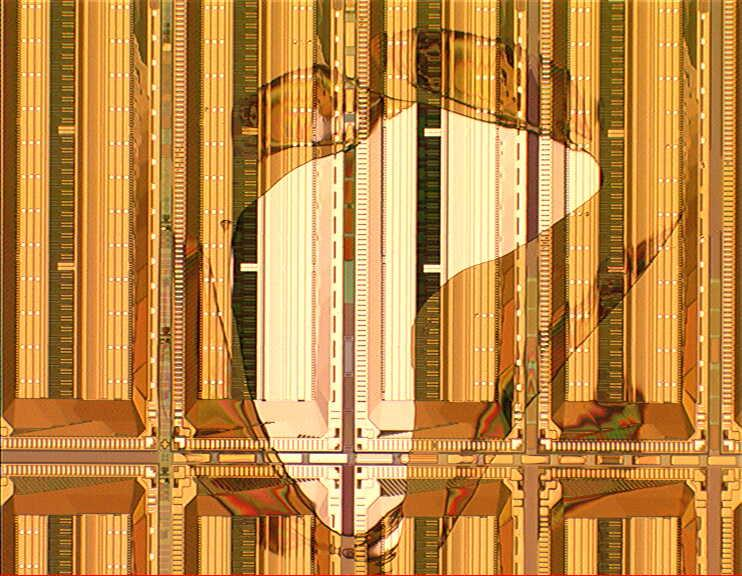COATING BAD: (1, 1, 714, 576)
